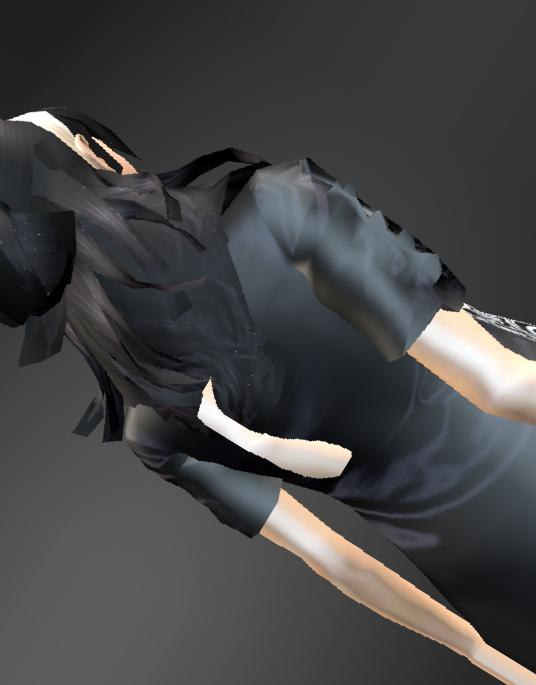clip: (185, 377, 329, 465)
